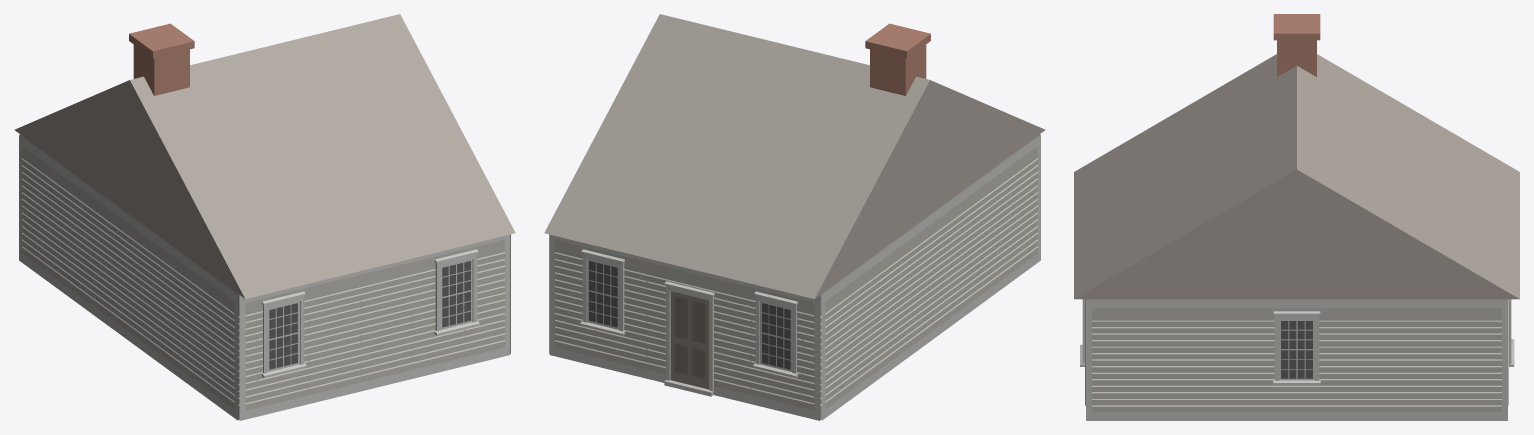
File: recon_1835_north_d5_078__inferred_1835.glb
3 renders of one model, left to right at view 1: azimuth 30°, elevation 25°; view 2: azimuth 150°, elevation 25°; view 3: azimuth 270°, elevation 25°, orthographic. The views are drawn at different scales.
Visible parts, largest first — view 1: recon_1835_north_d5_078__inferred_1835; view 2: recon_1835_north_d5_078__inferred_1835; view 3: recon_1835_north_d5_078__inferred_1835.
Boxes of the visible parts, x1,y1,x2,y2 form: recon_1835_north_d5_078__inferred_1835: [14, 14, 515, 420]; recon_1835_north_d5_078__inferred_1835: [544, 14, 1045, 420]; recon_1835_north_d5_078__inferred_1835: [1074, 14, 1519, 420].
Bounding box in the file's own units: 6.51 × 6.63 × 9.41.
